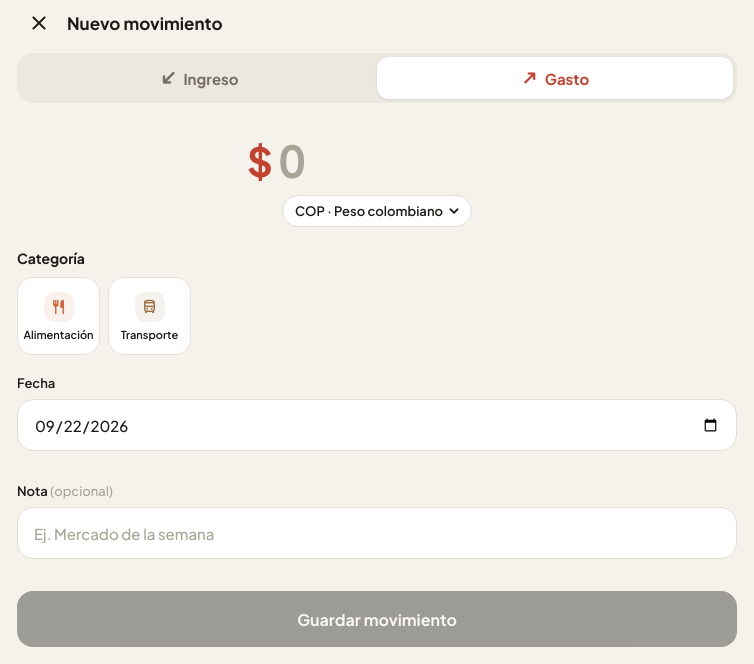
Test: Nuevo movimiento › cambiar de tipo borra la categoria elegida
The width and height of the screenshot is (754, 664).
In the field named "Importe": (392, 160) left=277, top=131, right=507, bottom=189, type "45000"
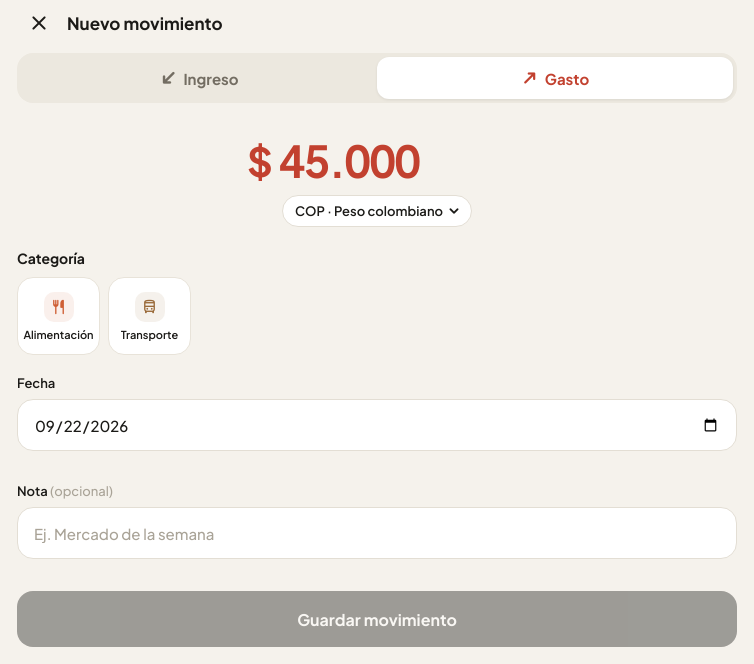
Click the radio button labelled "Alimentación": (58, 316) left=17, top=277, right=100, bottom=355
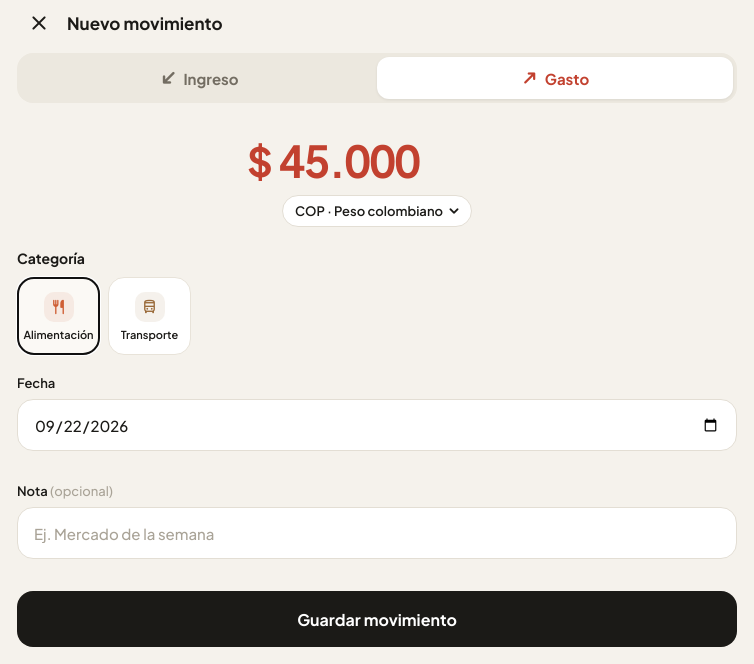
Click the tab "Ingreso": (199, 78) left=21, top=57, right=377, bottom=99
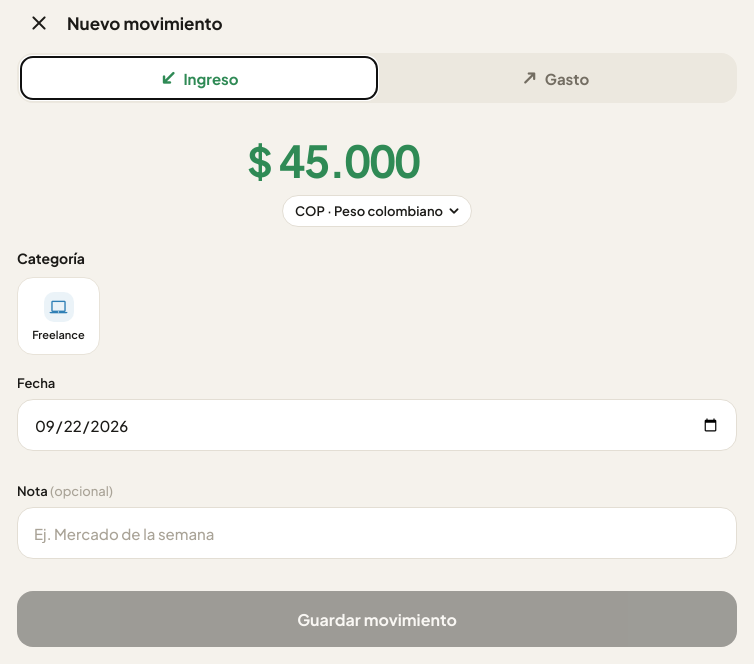
Result: the button "Guardar movimiento" is disabled at left=17, top=591, right=737, bottom=647
Result: the radio button labelled "Alimentación" is gone
